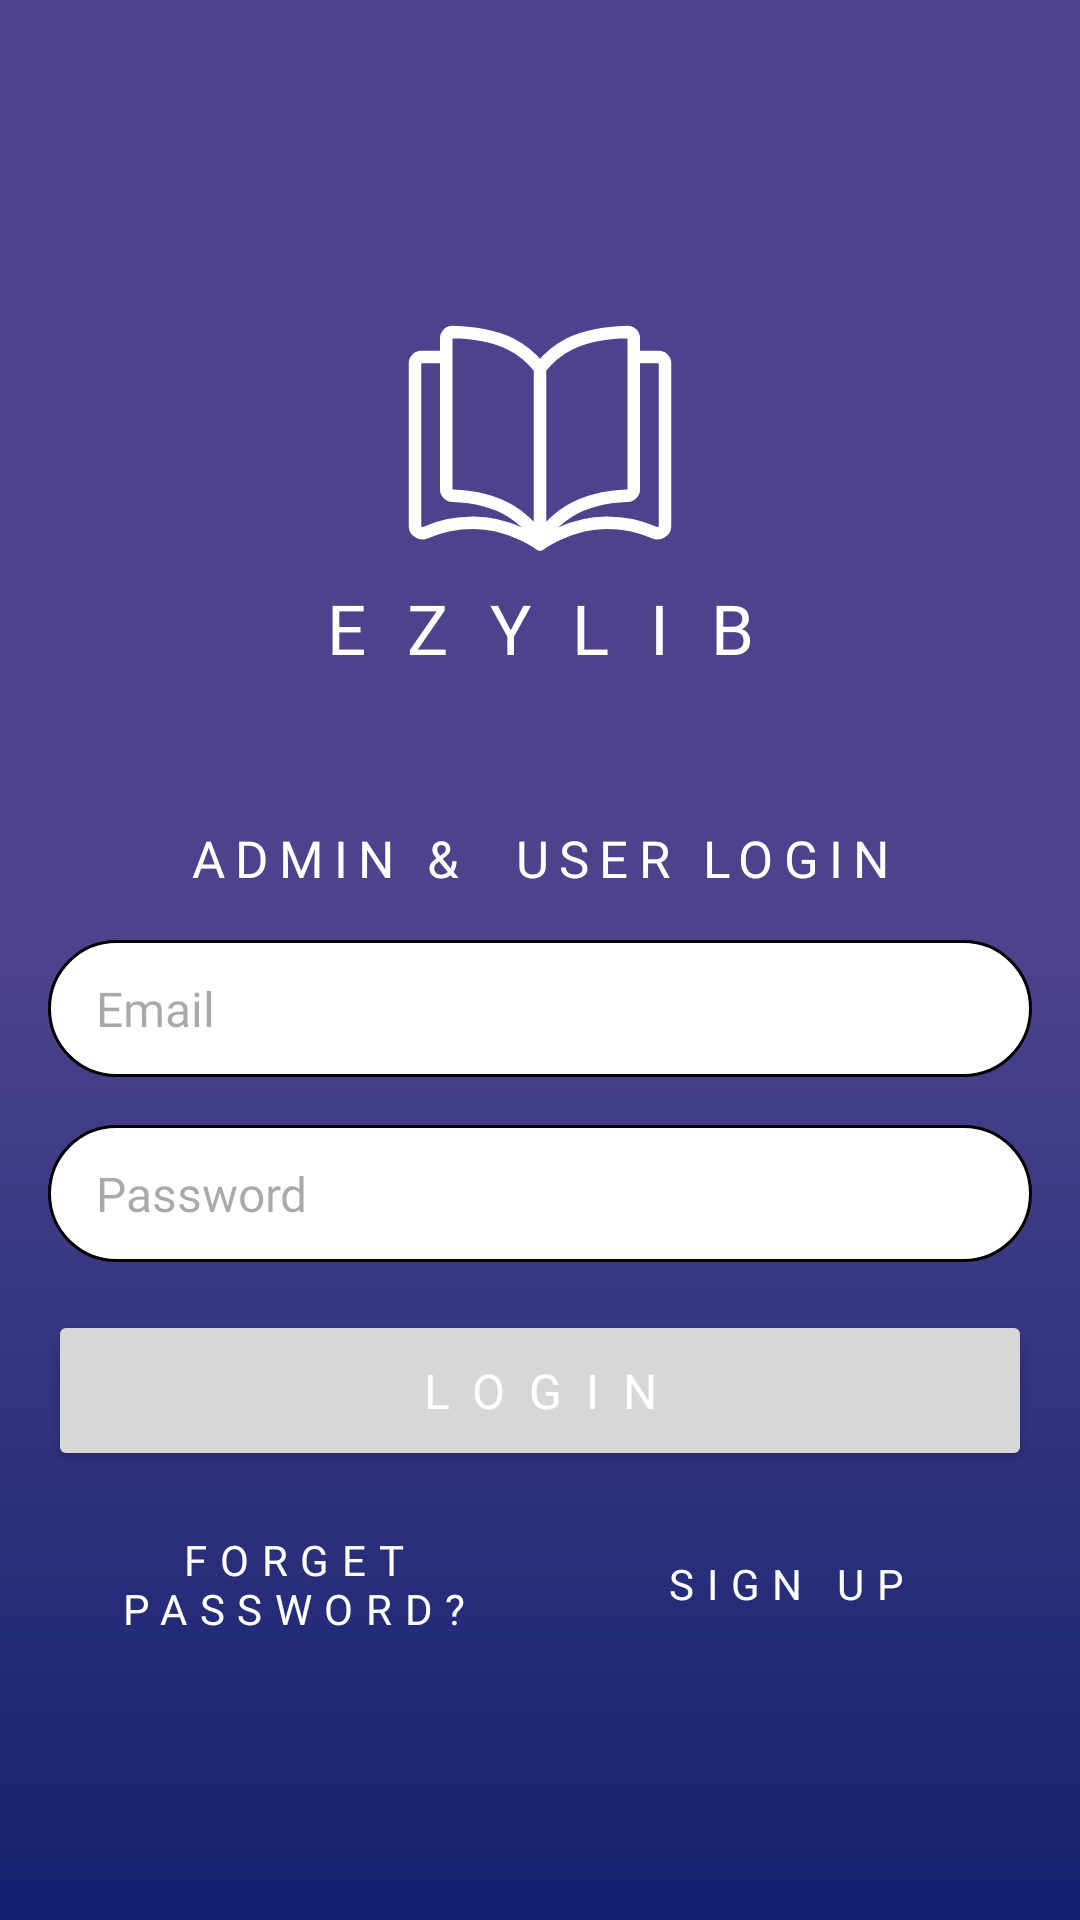

Icon click points for this 1080×1920 phone screenshot, format (x,y):
book: (540,438)
